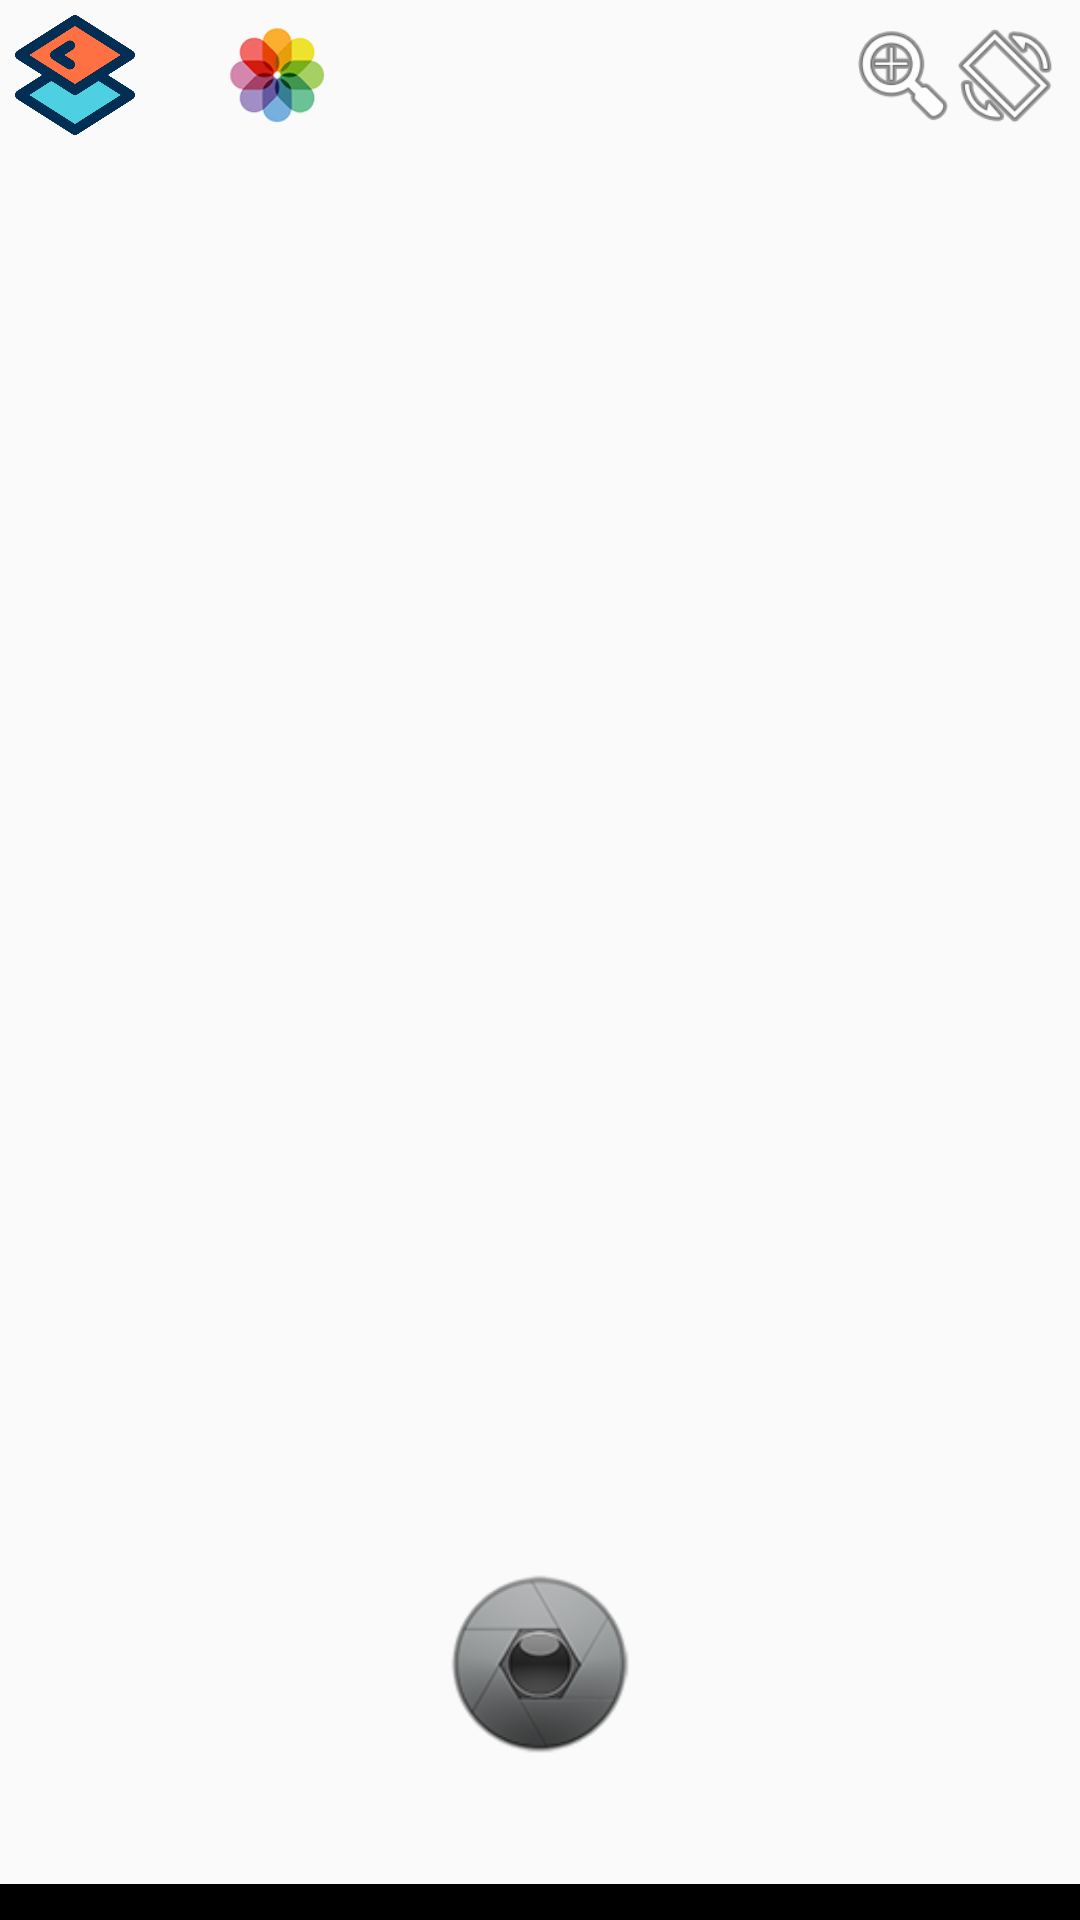

Icon click points for this 1080×1920 phone screenshot, format (x=x, y=y):
clickorient: (x=1005, y=76)
clicktake: (x=540, y=1664)
